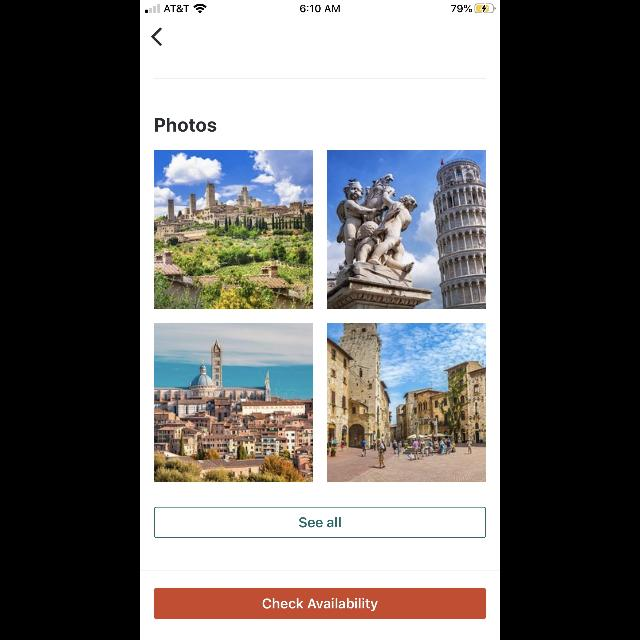icon: (152, 28, 162, 46)
image: (154, 150, 314, 310), (328, 150, 487, 310), (154, 323, 314, 482), (328, 323, 487, 482)
text: (155, 118, 217, 132)
textbutton: (154, 507, 486, 538), (154, 588, 486, 618)
uppertaskbar: (140, 0, 500, 14)
